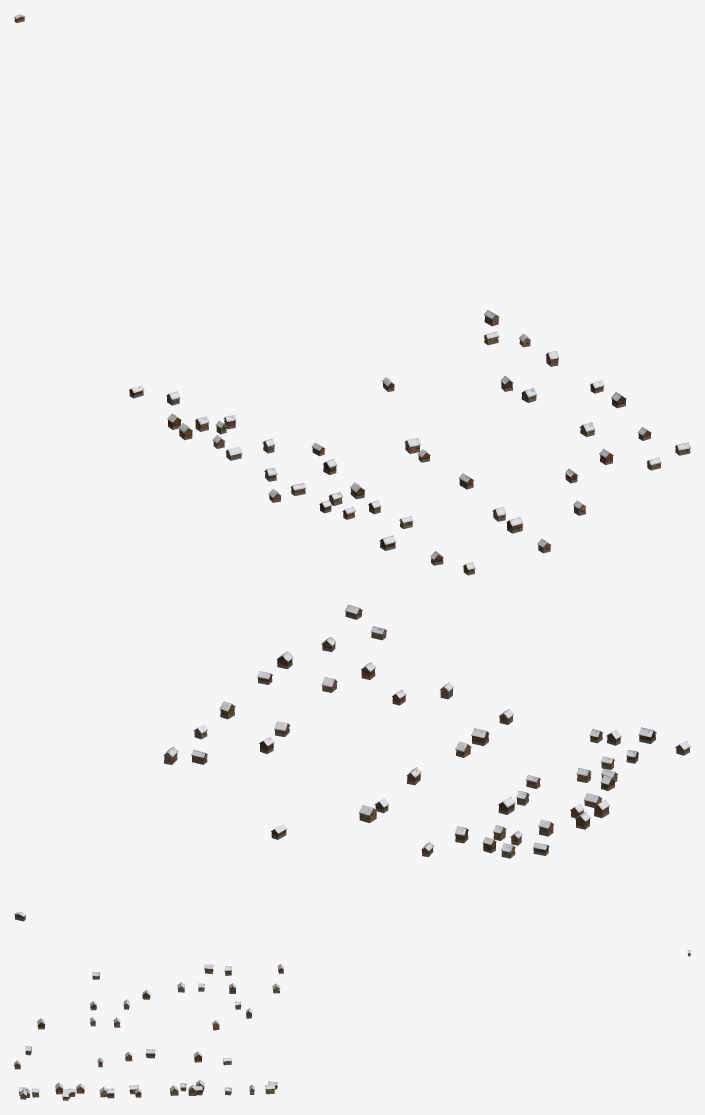
The model's file is village_bigair.glb.
3 views of the same model, one above another, from view 1: azimuth 30°, elevation 25°; view 2: azimuth 150°, elevation 25°; view 3: azimuth 270°, elevation 25° (orthographic). The views are drawn at different scales.
Size of the model in its own units: 580 by 283 by 1326.
